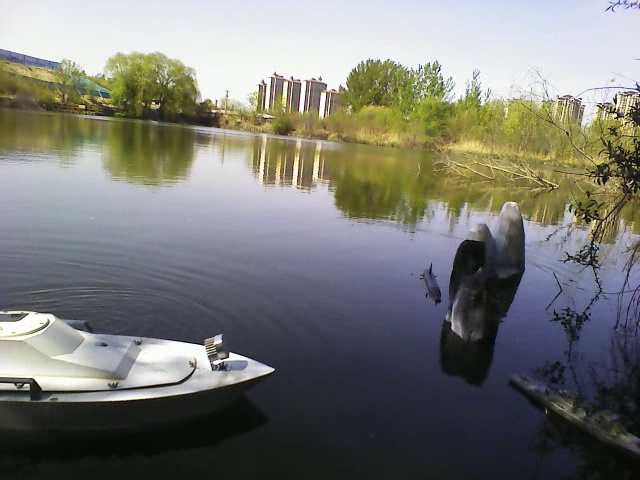boat: (3, 304, 285, 435)
iceberg: (465, 200, 529, 281)
rock: (447, 239, 496, 346)
submarine: (418, 260, 444, 304)
warship: (508, 366, 636, 453)
